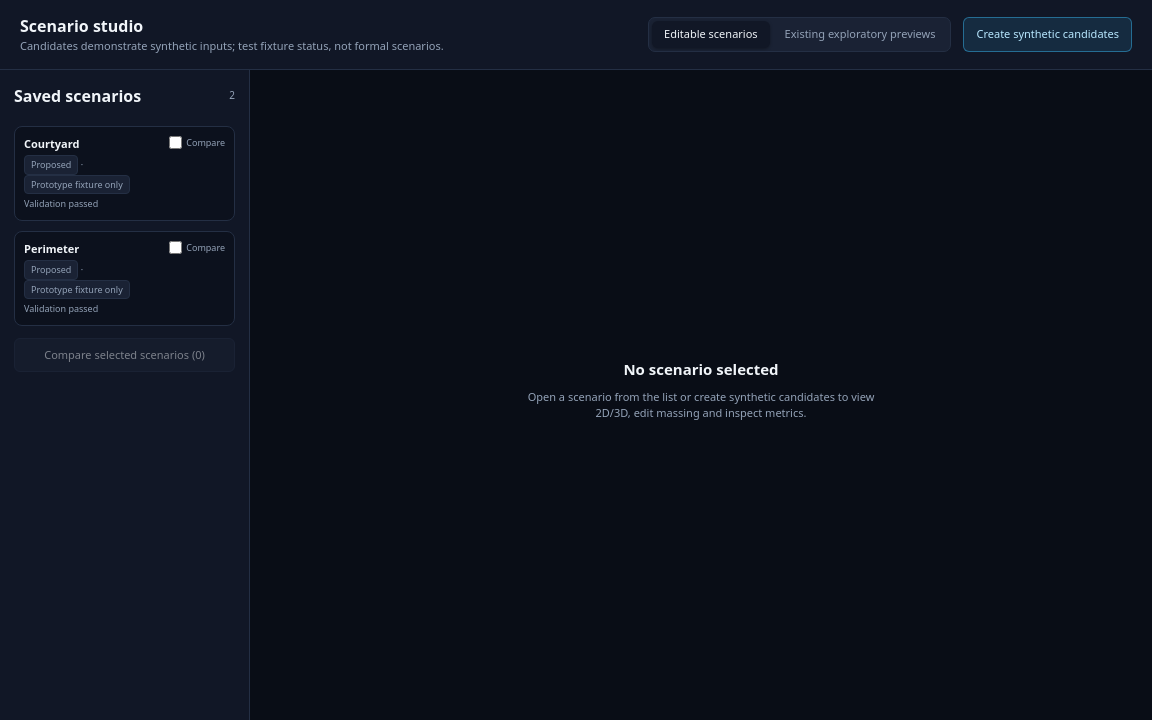
ScenarioStudio › loads persisted candidates and displays evidence fields without ranking
Expected: the button with aria-label "Inspect Courtyard" is shown, [24, 136, 161, 210]
Click the 1st checkbox labelled "Compare": (176, 142) [169, 136, 182, 149]
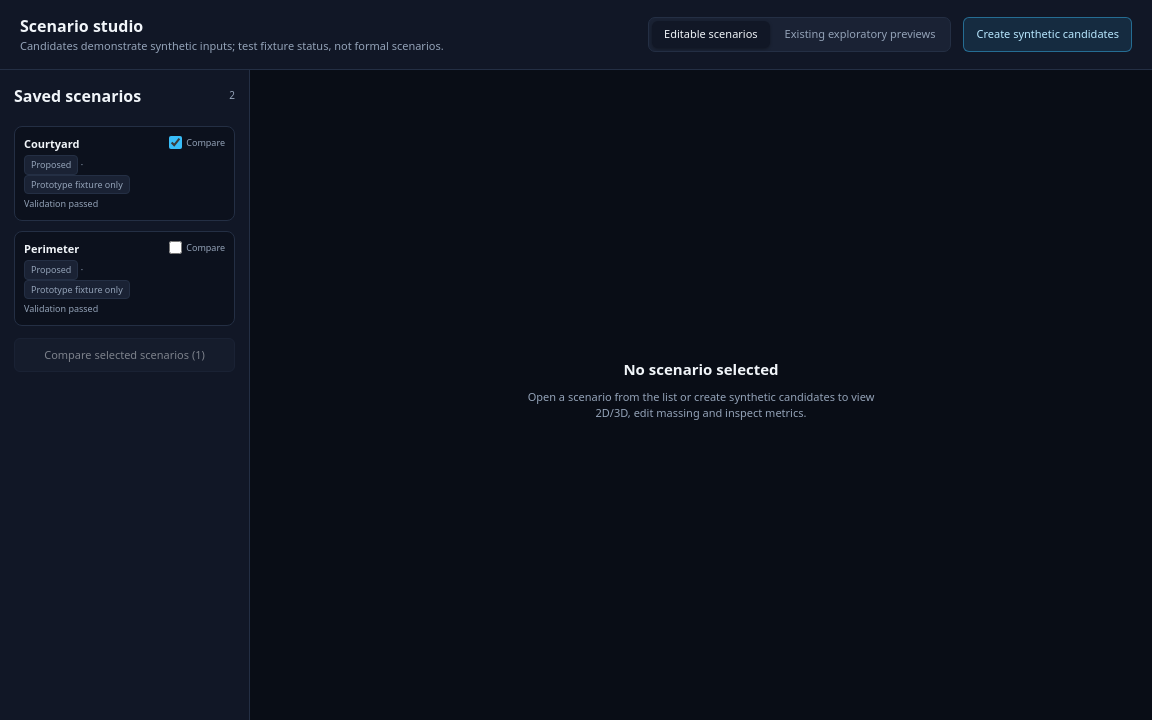
Click the 2nd checkbox labelled "Compare": (176, 247) [169, 241, 182, 254]
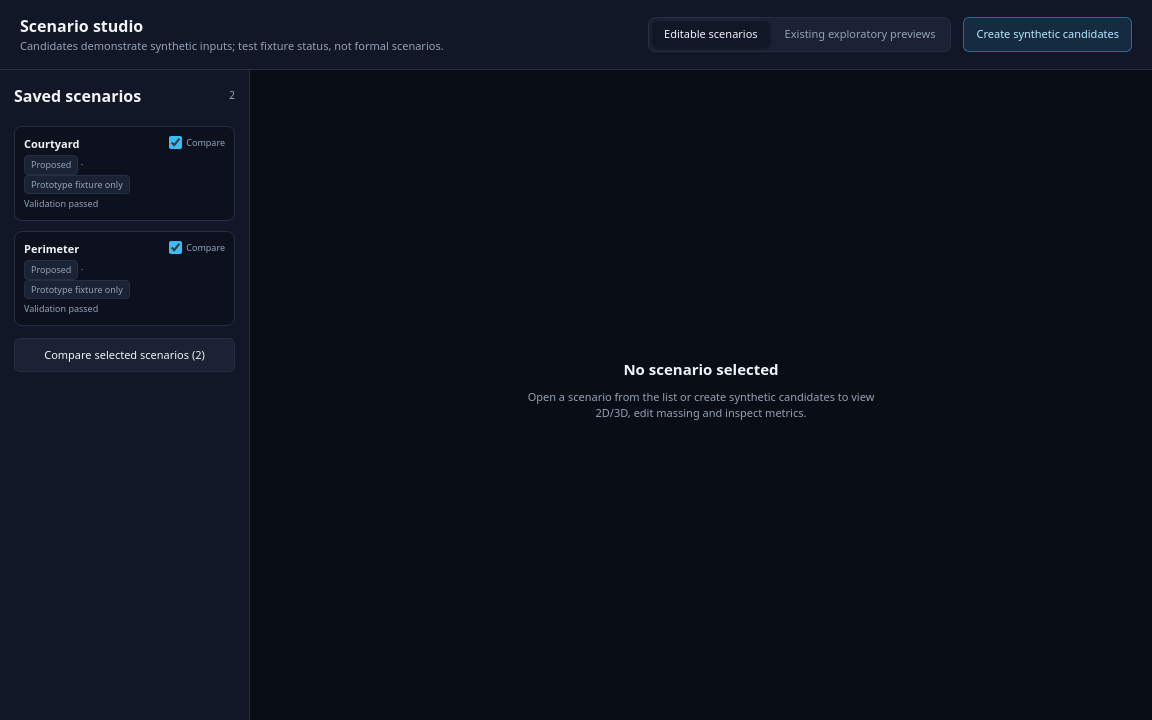
Click the button "Compare selected scenarios (2)": (124, 355) [14, 338, 235, 372]
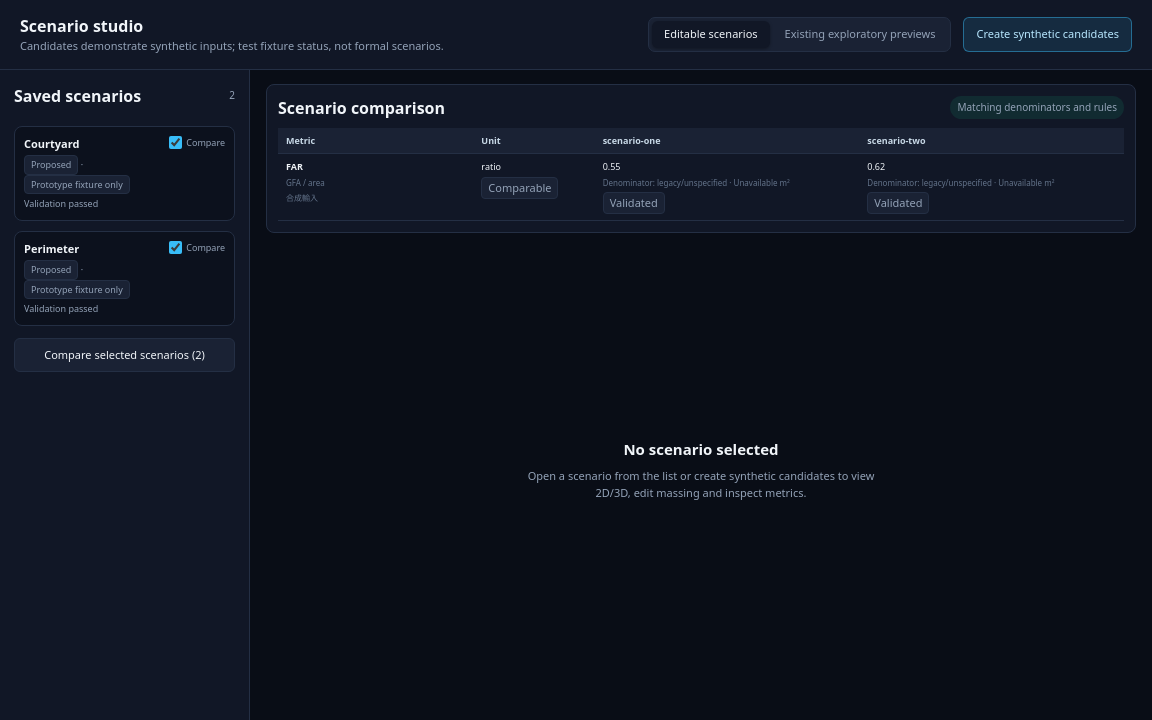
Result: the element named "Scenario comparison table" is shown at [266, 84, 1136, 233]
Result: the text "GFA / area" is shown at [286, 176, 325, 188]
Result: the text "合成輸入" is shown at [286, 192, 318, 202]
Click the button with aria-label "Inspect Courtyard": (93, 173) [24, 136, 161, 210]
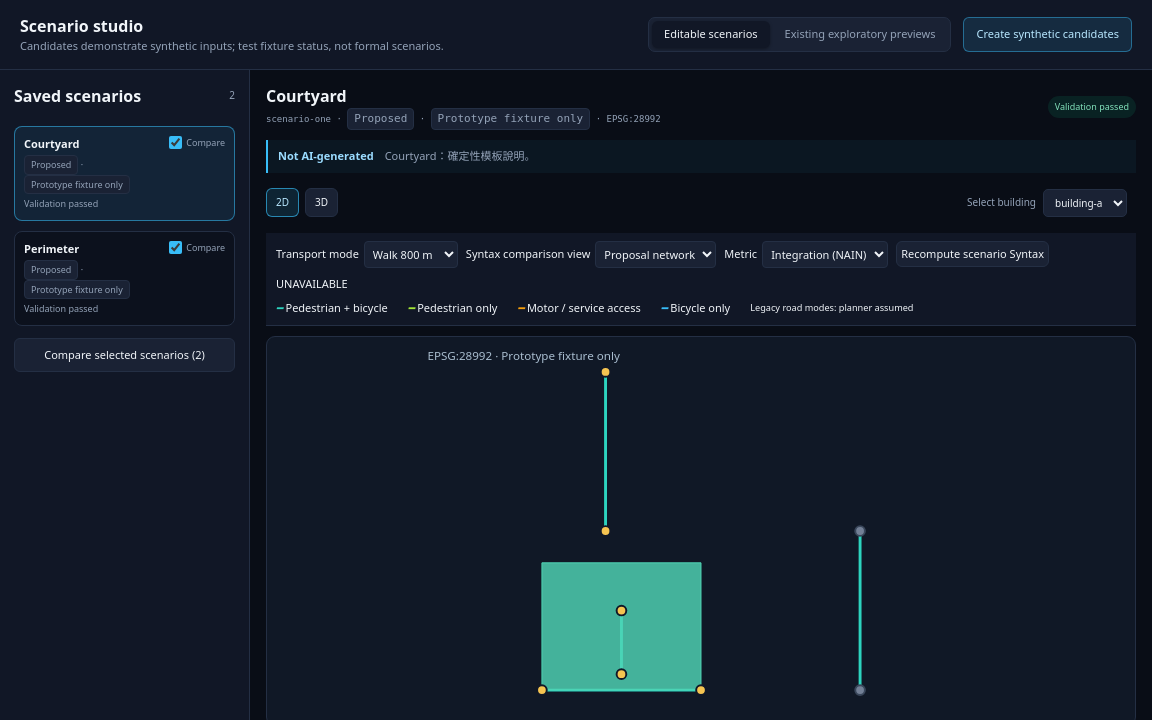
Result: the icon named "Scenario EPSG:28992 plan and road-node editor" is shown at [267, 336, 1135, 719]
Result: the text "Not AI-generated" is shown at [278, 148, 374, 163]
